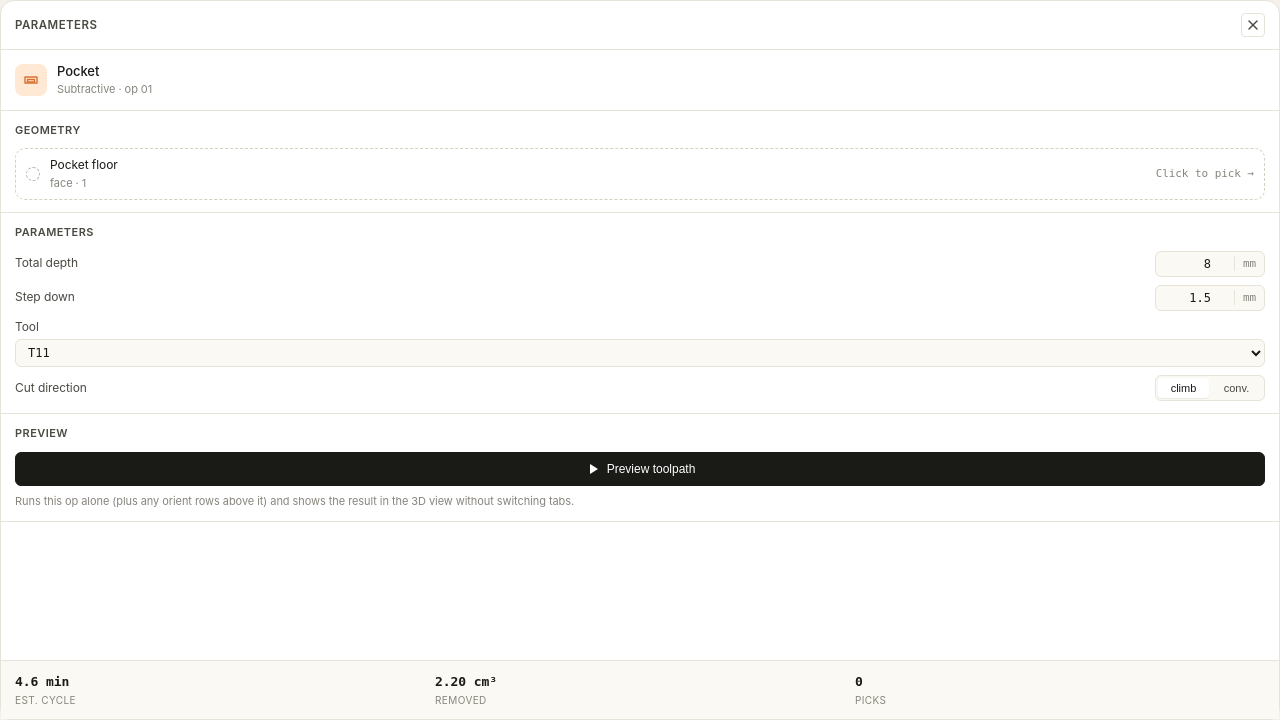
Test case: ParamEditorOp › surfaces a preview error inline
Click the button "Preview toolpath": (640, 469) [15,452,1265,486]
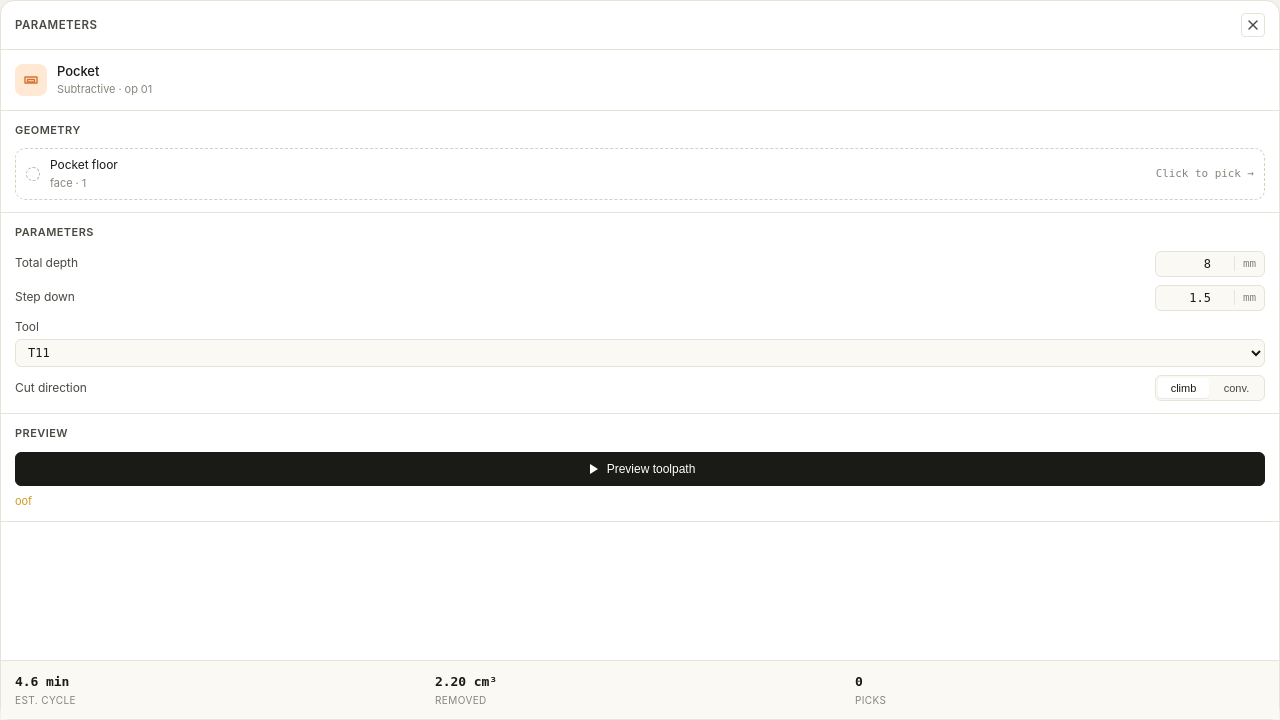
Expected: the text "oof" is shown, [15,494,32,508]
